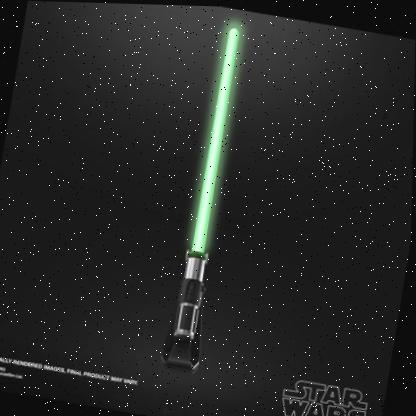lightsaber: (157, 12, 257, 376)
